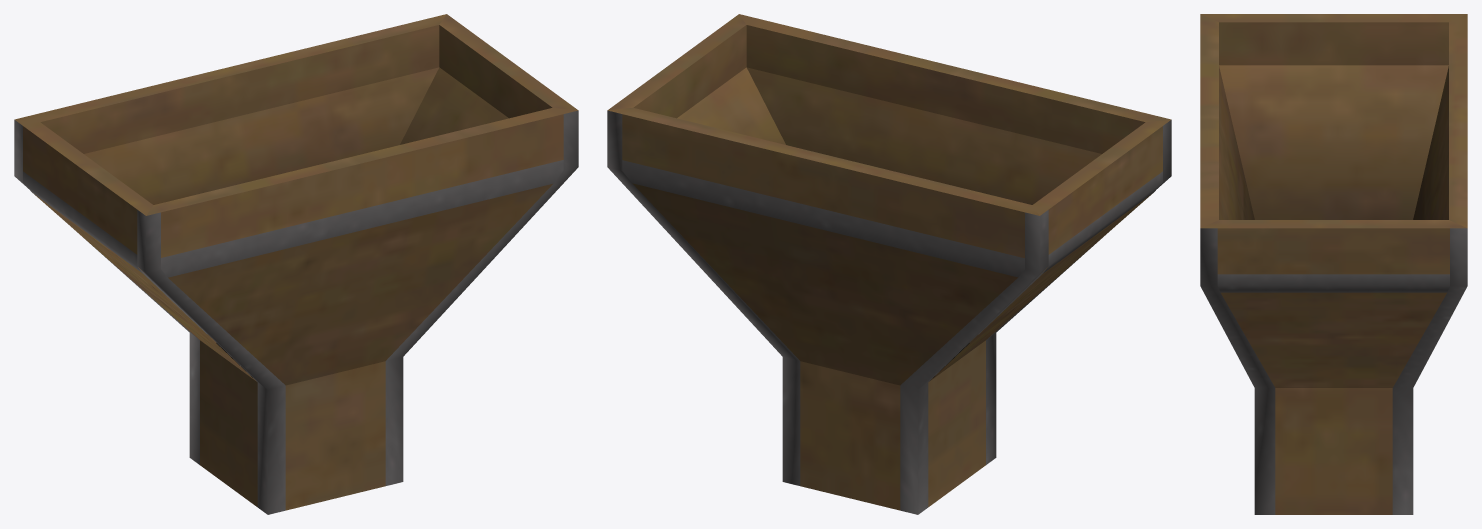
File: HopperBottom.fbx
3 renders of one model, left to right at view 1: azimuth 30°, elevation 25°; view 2: azimuth 150°, elevation 25°; view 3: azimuth 270°, elevation 25°, orthographic.
Parts seen in each view (by area): view 1: Hopper; view 2: Hopper; view 3: Hopper.
Boxes of the visible parts, left/top/right/bottom form: Hopper: left=14, top=14, right=578, bottom=514; Hopper: left=607, top=14, right=1171, bottom=514; Hopper: left=1200, top=14, right=1467, bottom=514.
Size of the model in its own units: 1.6 by 1.25 by 0.8436.
